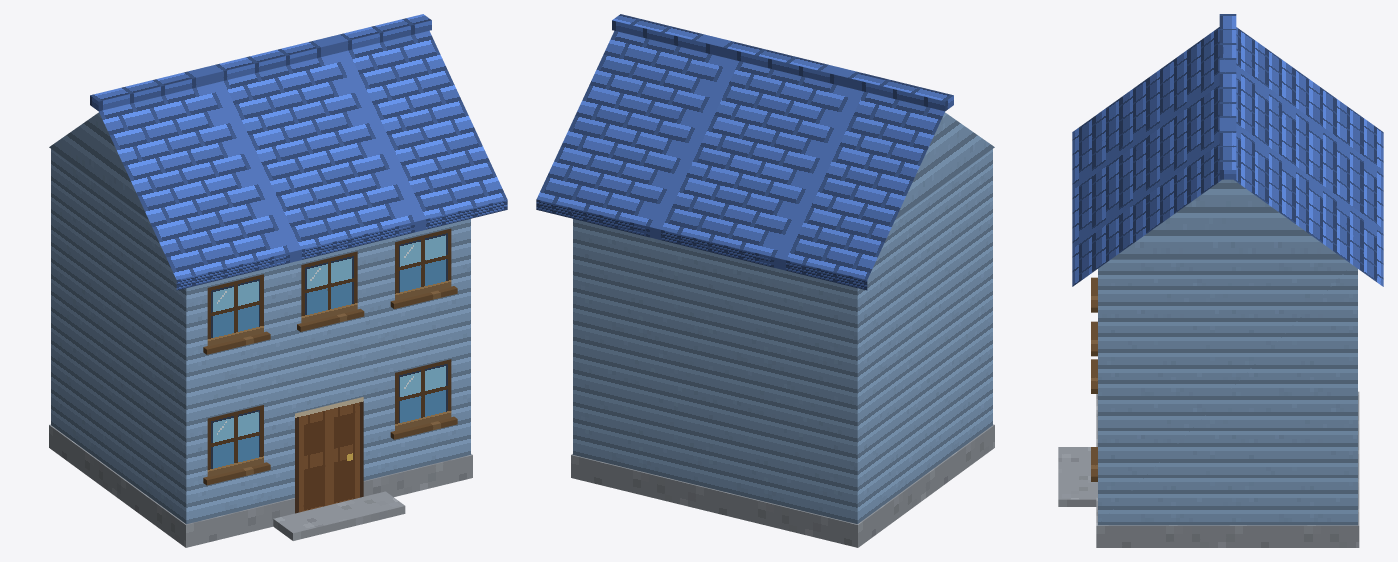
File: house_1.glb
3 views of the same model, side by side, from view 1: azimuth 30°, elevation 25°; view 2: azimuth 150°, elevation 25°; view 3: azimuth 270°, elevation 25° (orthographic). The views are drawn at different scales.
Parts seen in each view (by area): view 1: house_1; view 2: house_1; view 3: house_1.
Part boxes in pixels (x1,y1,x2,y2): house_1: (49,14,507,547); house_1: (536,14,994,547); house_1: (1058,14,1383,547).
Size of the model in its own units: 5.34 by 6.2 by 4.7.
6 materials, 6 textured.
